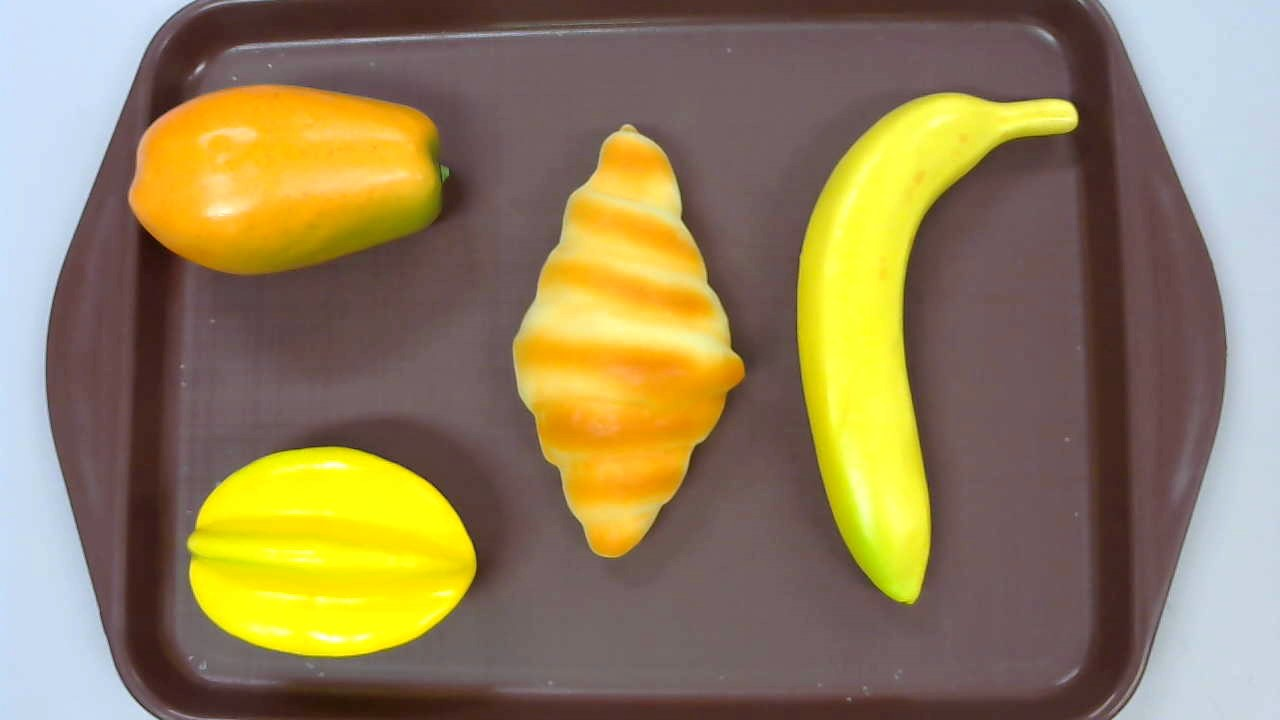banana: (797, 92, 1078, 607)
croissant: (510, 122, 746, 559)
papaya: (126, 83, 451, 276)
star fruit: (187, 447, 476, 657)
